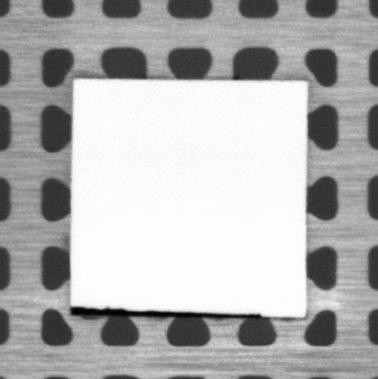DIE_BROKEN: (69, 305, 263, 319)
